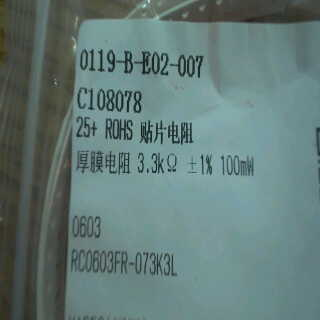3.3kO: (132, 150, 184, 176)
